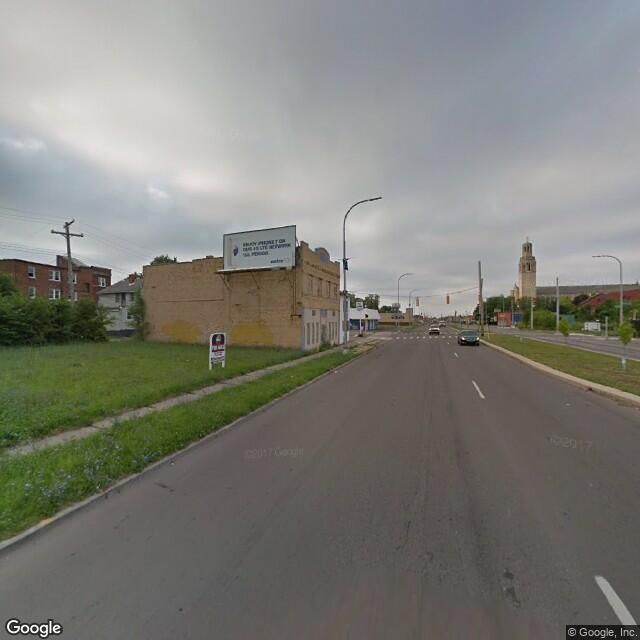litter: (587, 385, 597, 393), (332, 369, 342, 373), (169, 460, 174, 465), (288, 374, 295, 377)
